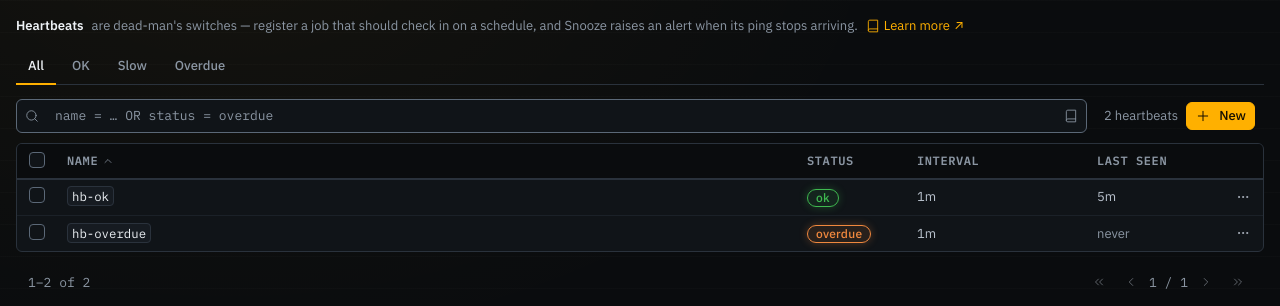
Scenario: HeartbeatsPage › status_filter_all_clears_status_param
Expected: the text "hb-ok" is shown, [67,186,114,206]
// Filter to Overdue…
Click the tab "Overdue" at [200, 66], box [163,48,237,85]
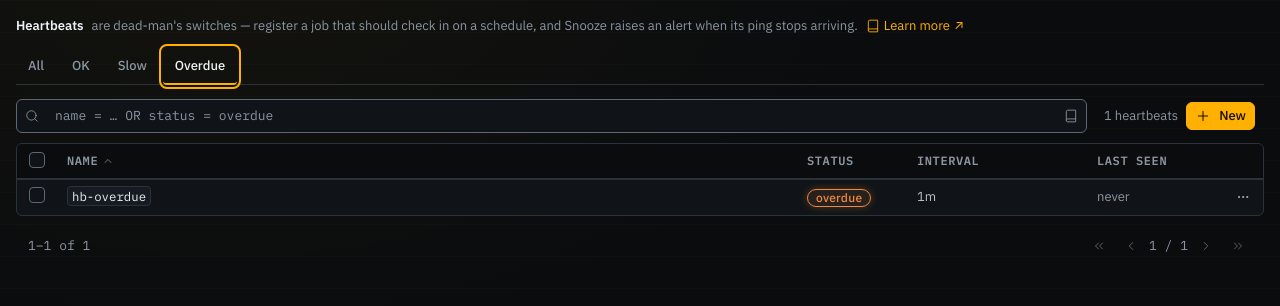
// …then back to All — the latest request must carry no status filter.
Click the tab "All" at [36, 66], box [16,48,56,85]
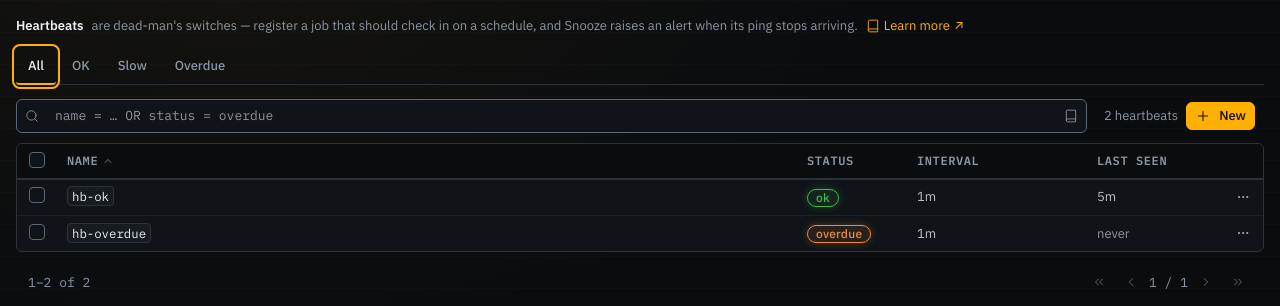
Expected: the text "hb-ok" is shown, [67,186,114,206]
